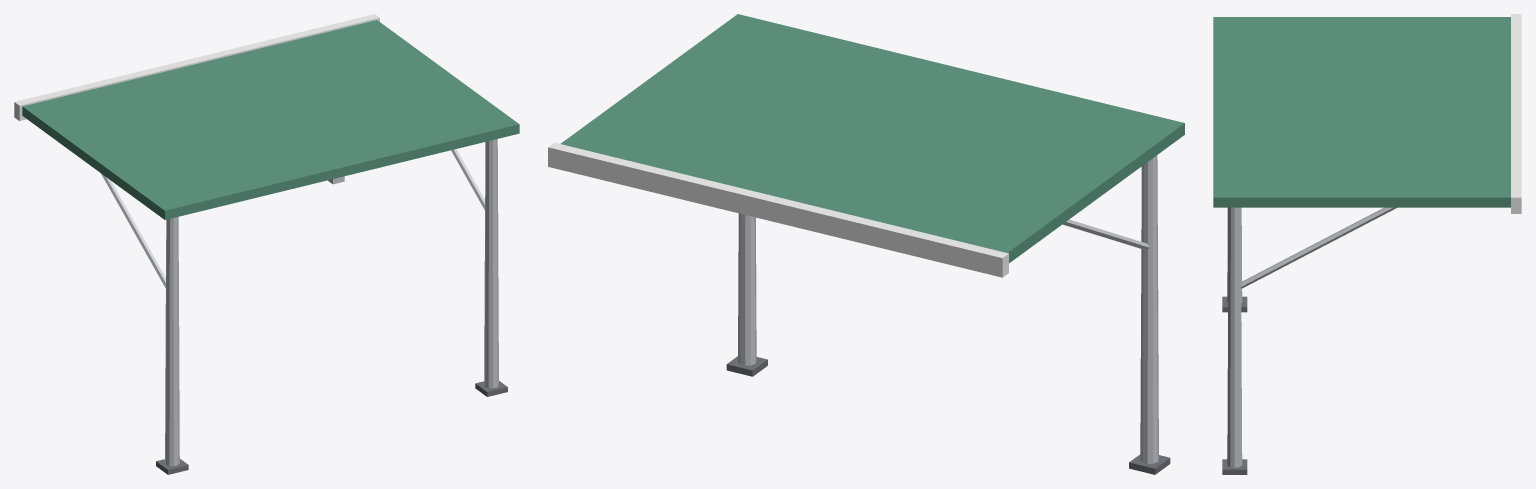
Rendered from scenery-grandstand-canopy.glb.
The picture shows the model from 3 angles, left to right: view 1: azimuth 30°, elevation 25°; view 2: azimuth 150°, elevation 25°; view 3: azimuth 270°, elevation 25°; orthographic projection. The views are drawn at different scales.
Parts seen in each view (by area): view 1: grandstand-roof-canopy; view 2: grandstand-roof-canopy; view 3: grandstand-roof-canopy.
Part boxes in pixels (x1=…): grandstand-roof-canopy: x1=14, y1=14, x2=519, y2=474; grandstand-roof-canopy: x1=548, y1=14, x2=1184, y2=474; grandstand-roof-canopy: x1=1213, y1=14, x2=1521, y2=474.
Size of the model in its own units: 12.2 by 8.75 by 8.65.
